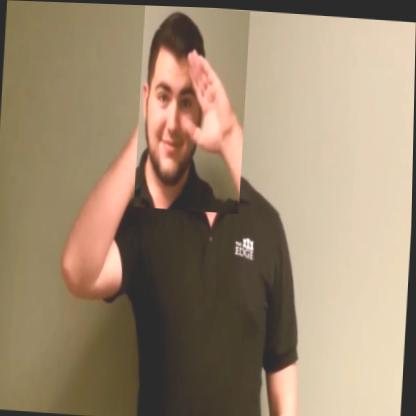Hello: (134, 4, 250, 212)
